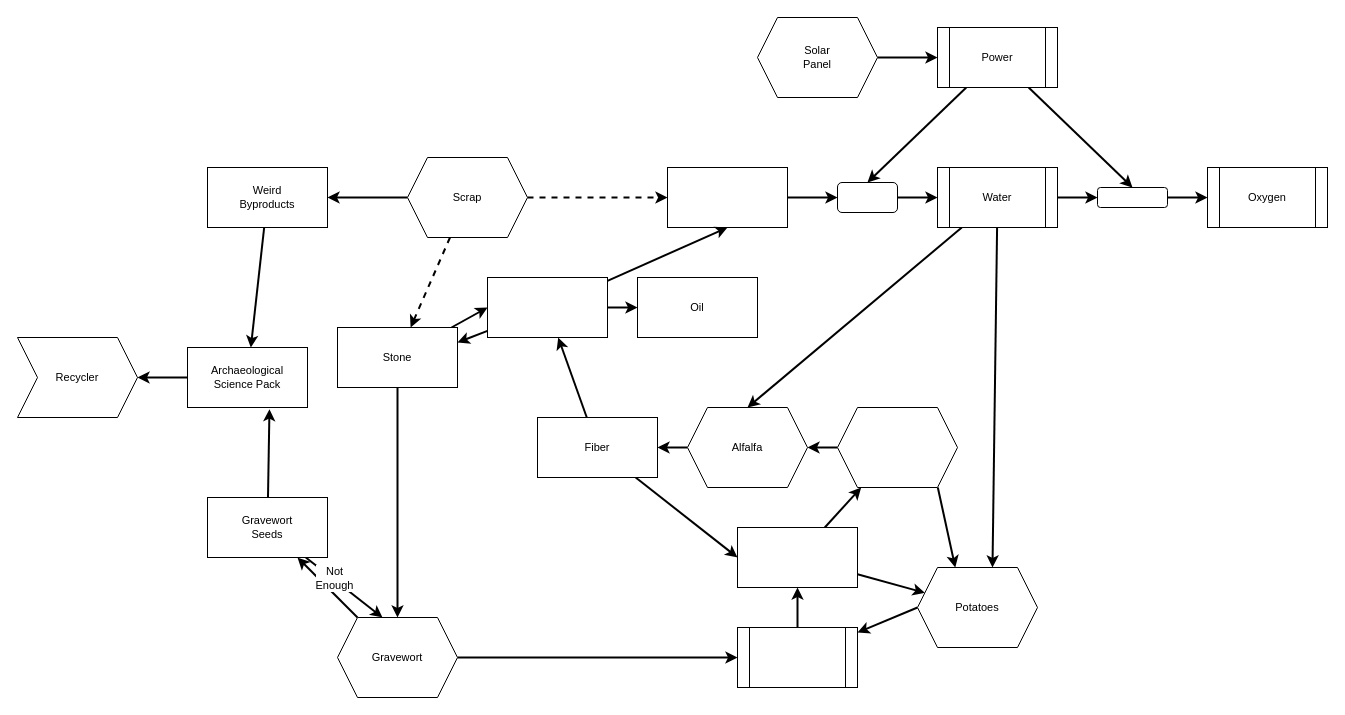
Image size: 1345x715. Some labels were removed from this diagram. Here are the shapes that lost their labels. From the top down, the box of each, then its label:
(666, 166, 788, 228): Ice
(836, 182, 898, 212): Melting
(1096, 186, 1168, 208): Electrolysis
(486, 276, 608, 338): Sludge Filter
(836, 406, 958, 488): Dirt
(736, 526, 858, 588): Spoilage
(736, 626, 858, 688): Food
